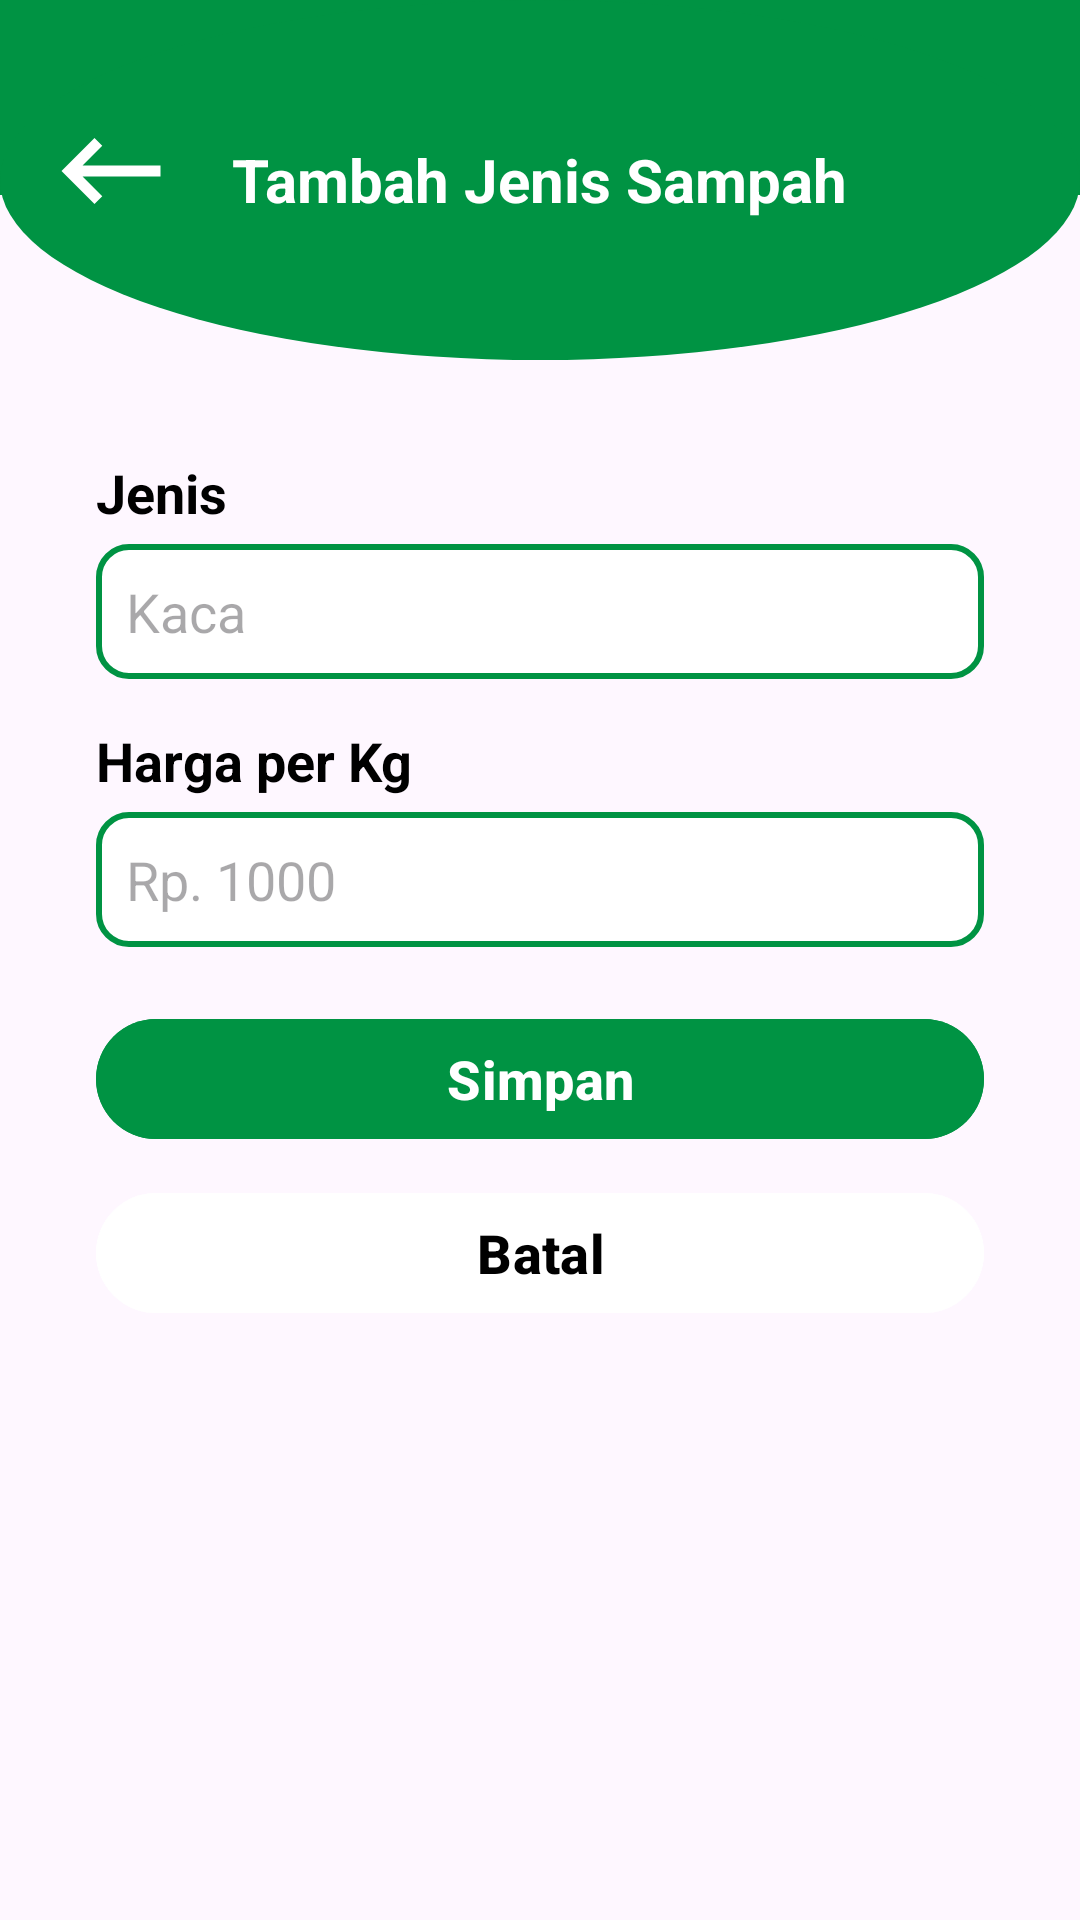

Icons on this 1080px x 1920px Android screen, each with the point to tap as [x,y]:
keyboard backspace: [111,171]
